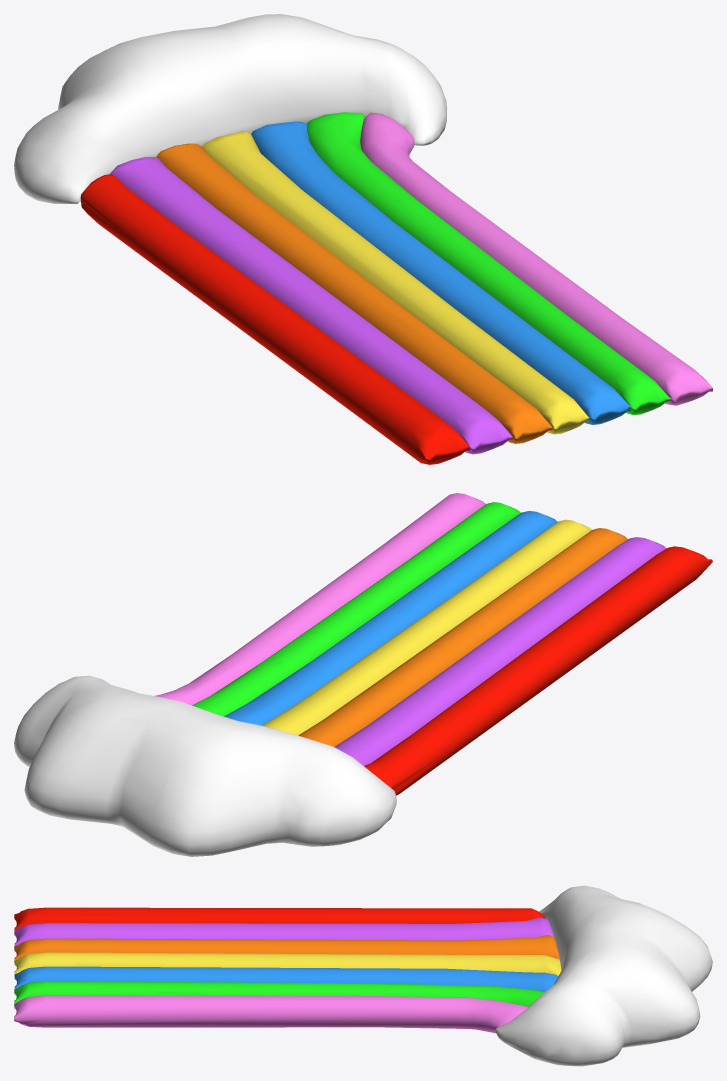
File: gommone_arcobaleno_LOD1.fbx
The picture shows the model from 3 angles, top to bottom: view 1: azimuth 30°, elevation 25°; view 2: azimuth 150°, elevation 25°; view 3: azimuth 270°, elevation 25°; orthographic projection. The views are drawn at different scales.
Parts seen in each view (by area): view 1: Cube; view 2: Cube; view 3: Cube.
Boxes of the visible parts, bbox=[...] form: Cube: bbox=[14, 14, 712, 464]; Cube: bbox=[14, 493, 712, 856]; Cube: bbox=[14, 885, 712, 1066].
Size of the model in its own units: 440 by 111 by 889.
1 material, 1 textured.
